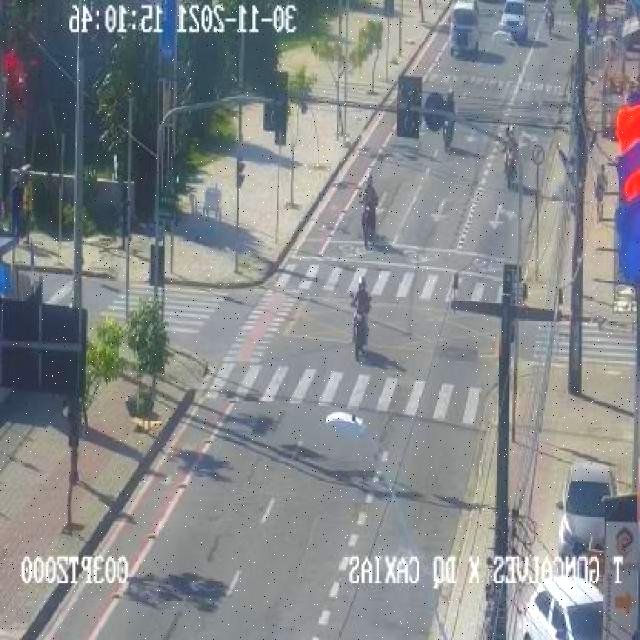Bus: (449, 0, 480, 56)
Car: (497, 0, 530, 42)
Cycle: (346, 276, 372, 361), (360, 170, 378, 250), (441, 86, 457, 152), (504, 123, 518, 192), (545, 0, 557, 39)
